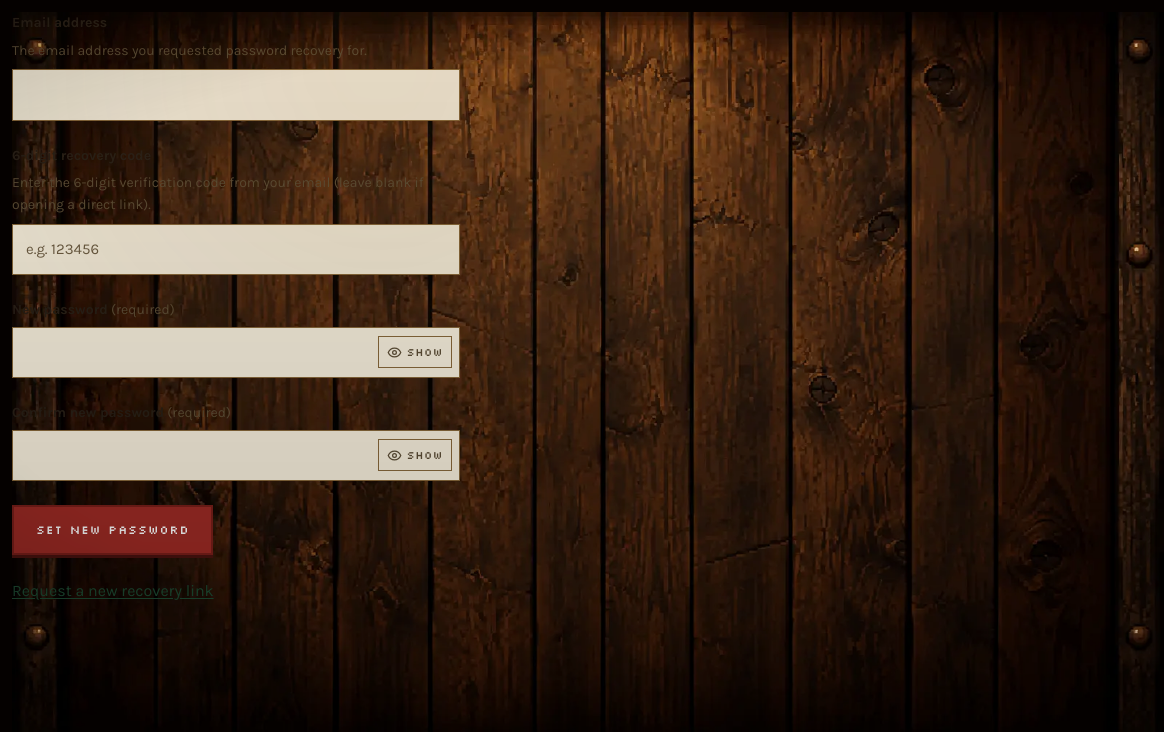
Test: posts email, 6-digit recovery code, and new password when entered
This screenshot has width=1164, height=732.
Step 1. Type "student@example.edu.my" into the field labelled "Email address" → (236, 95), box [12,69,460,121]
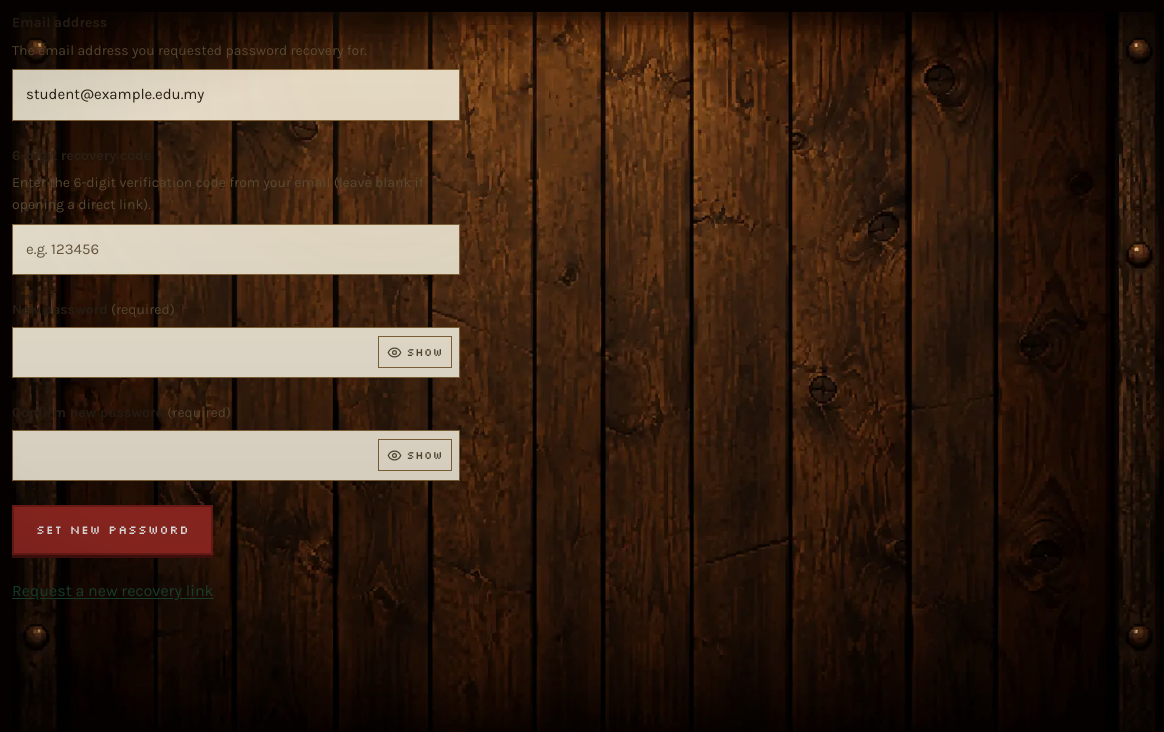
Step 2. Type "654321" into the field labelled "6-digit recovery code" → (236, 249), box [12,224,460,275]
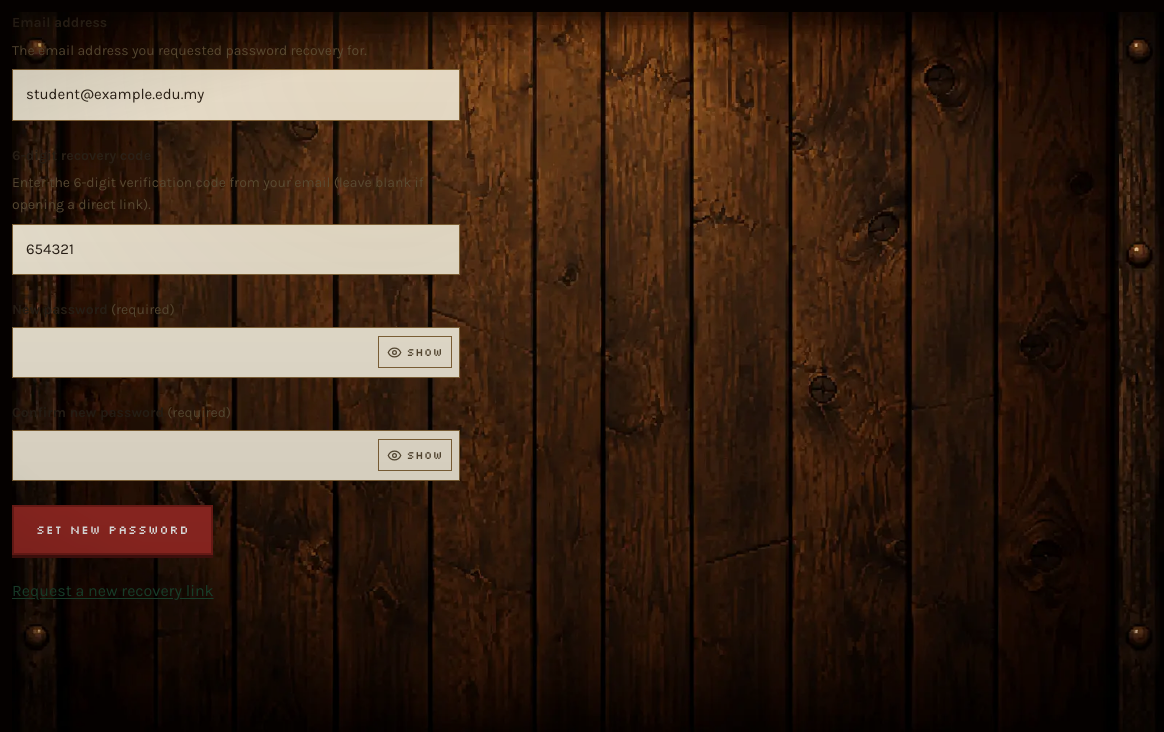
Step 3. Type "NewSecurePass123" into the password field labelled "New password (required)" → (236, 352), box [12,327,460,378]
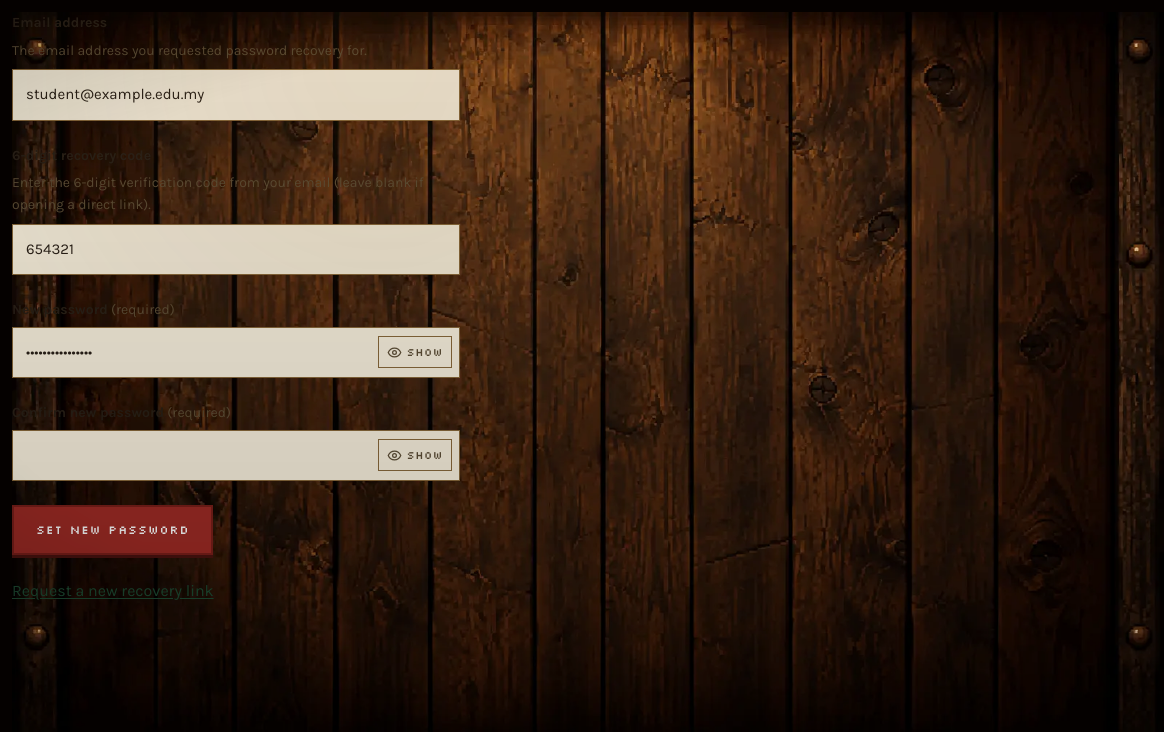
Step 4. Type "NewSecurePass123" into the password field labelled "Confirm new password (required)" → (236, 455), box [12,430,460,481]
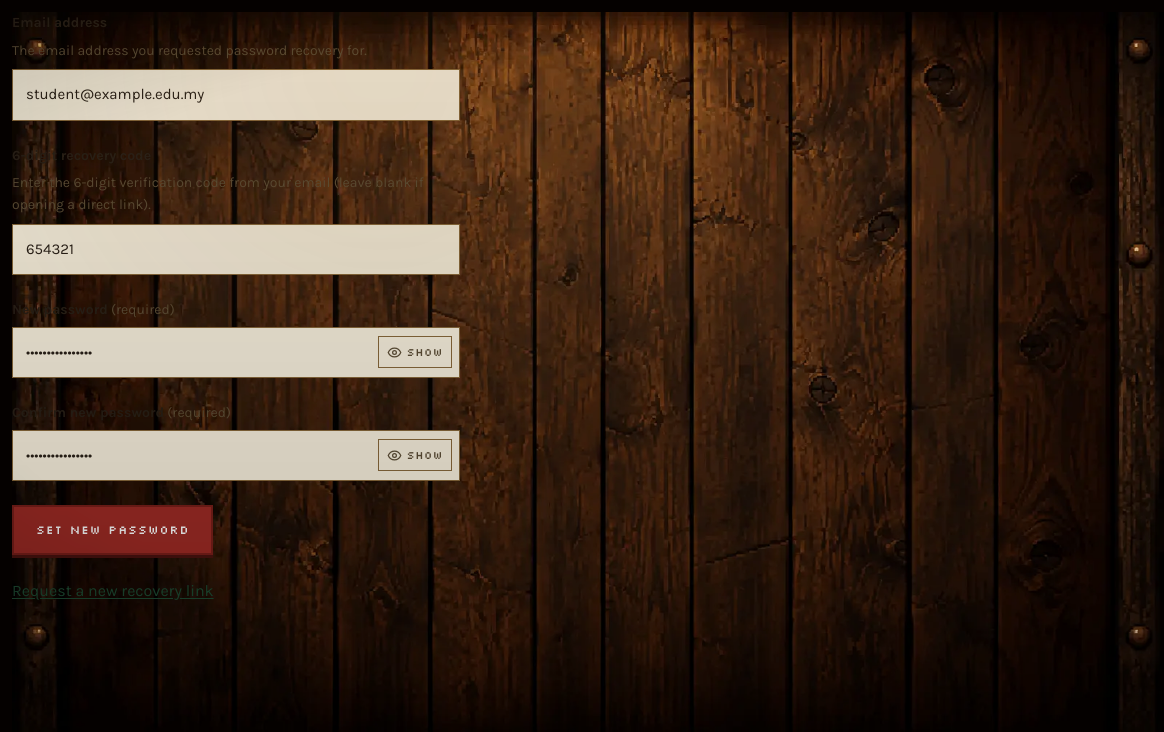
Step 5. Click the button "Set new password" → (113, 530), box [12,505,213,555]
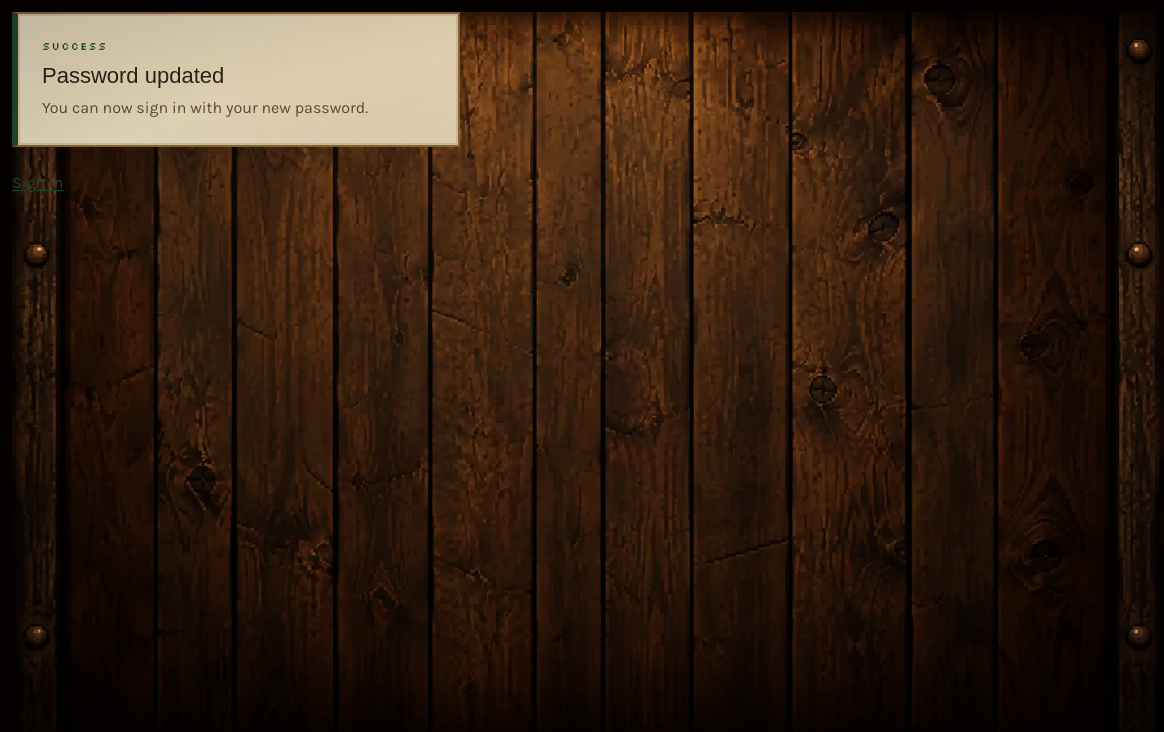
Now the heading "Password updated" is shown, box [42,63,224,88]
